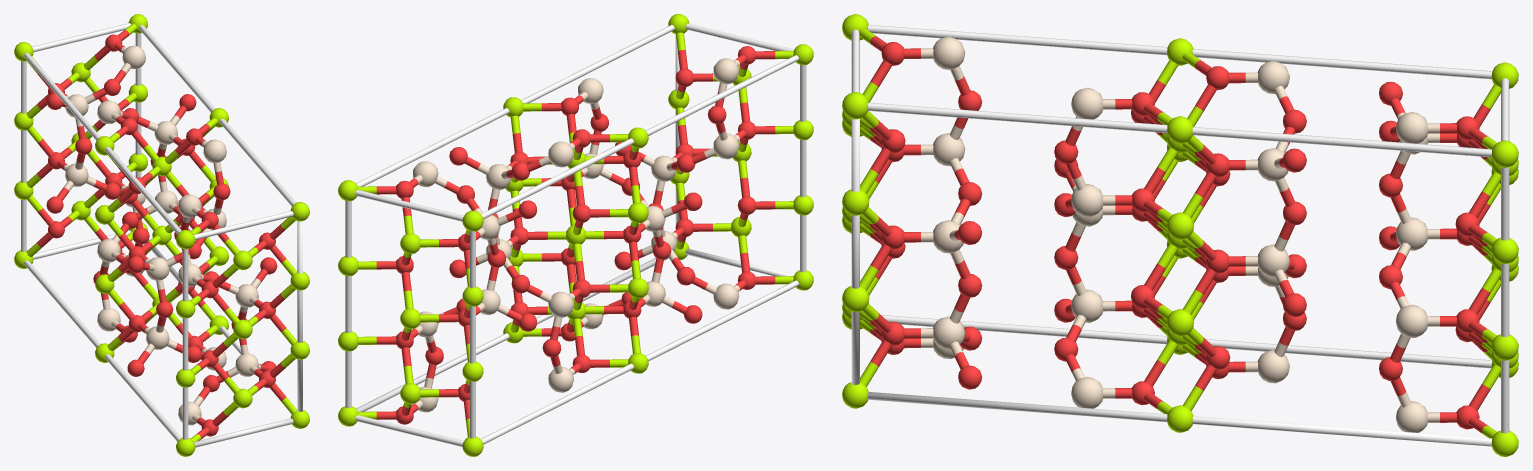
Rendered from TALCO.fbx.
3 renders of one model, left to right at view 1: azimuth 30°, elevation 25°; view 2: azimuth 150°, elevation 25°; view 3: azimuth 270°, elevation 25°, orthographic. The views are drawn at different scales.
Parts seen in each view (by area): view 1: O.007, MG, LIMITE.013, Si; view 2: O.007, MG, LIMITE.013, Si; view 3: O.007, LIMITE.013, Si, MG.
Boxes of the visible parts, bbox=[...] form: O.007: bbox=[37, 30, 286, 439]; MG: bbox=[14, 14, 309, 456]; LIMITE.013: bbox=[21, 23, 302, 447]; Si: bbox=[63, 45, 260, 425]; O.007: bbox=[376, 46, 775, 424]; MG: bbox=[338, 14, 813, 456]; LIMITE.013: bbox=[345, 23, 806, 446]; Si: bbox=[413, 58, 739, 412]; O.007: bbox=[870, 36, 1490, 433]; LIMITE.013: bbox=[851, 25, 1509, 446]; Si: bbox=[921, 36, 1439, 432]; MG: bbox=[842, 14, 1518, 456].
Bounding box in the file's own units: 17.55 × 18.98 × 36.47.
